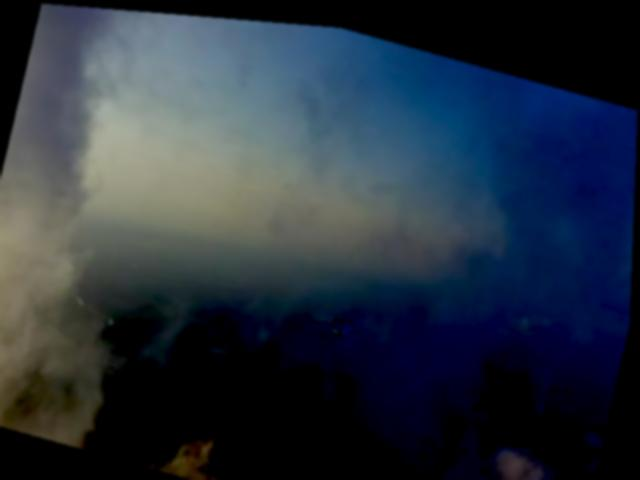uav: (305, 297, 372, 340)
